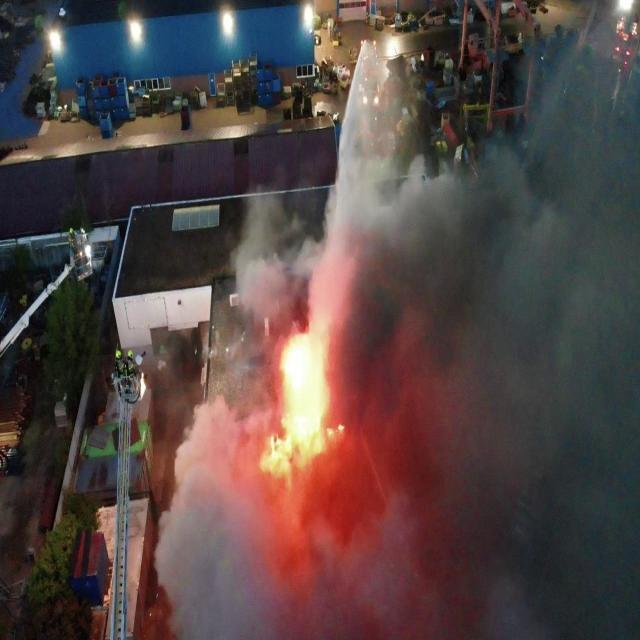Fire: (270, 413, 320, 462), (284, 342, 312, 393), (338, 423, 346, 432), (326, 428, 334, 436)
Smoke: (152, 0, 640, 640)
